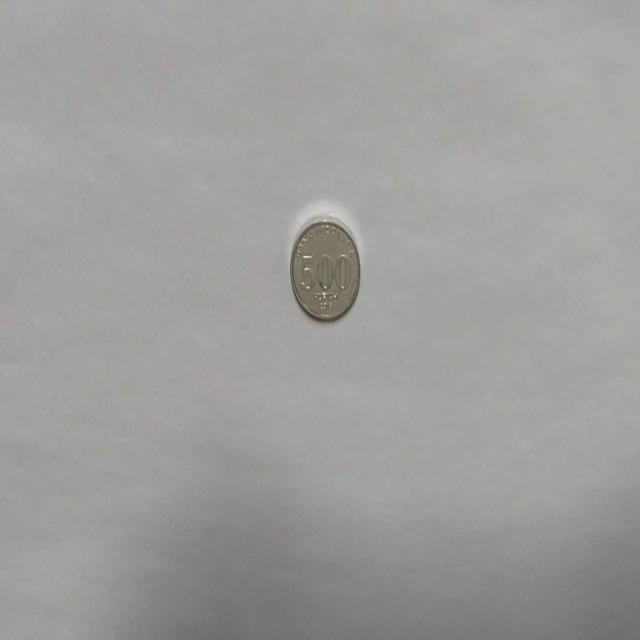lima ratus rupiah: (289, 215, 361, 322)
